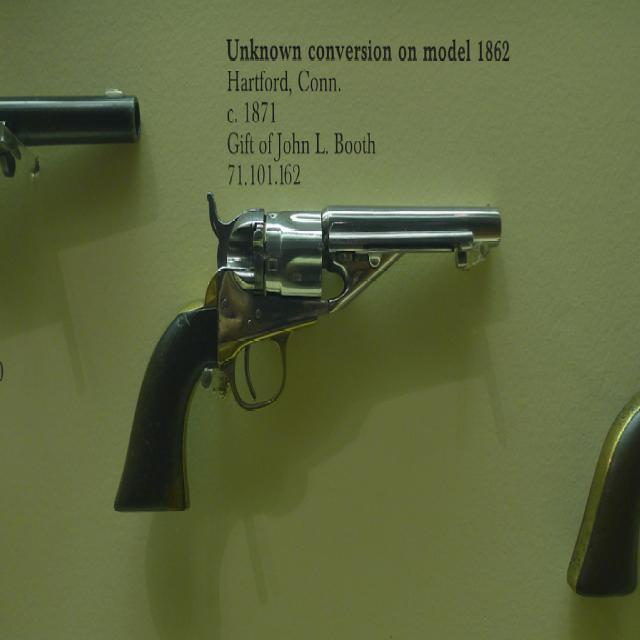Gun: (116, 194, 500, 510)
